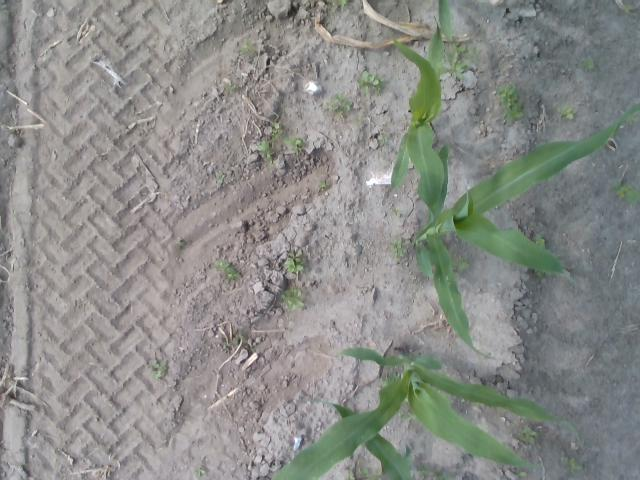Maize: (411, 104, 640, 358), (271, 346, 581, 480), (386, 16, 444, 237), (312, 397, 413, 480), (438, 0, 458, 40)
Weeds: (358, 70, 384, 94), (326, 92, 352, 116), (444, 54, 466, 78), (282, 288, 304, 312), (505, 98, 525, 123), (258, 140, 276, 162), (520, 426, 536, 445), (566, 456, 582, 474), (240, 38, 256, 56), (393, 238, 408, 257), (152, 360, 168, 377), (287, 256, 303, 273), (454, 254, 470, 270), (499, 84, 515, 99), (284, 138, 304, 150), (627, 188, 639, 204), (378, 132, 391, 146), (216, 260, 230, 273), (272, 122, 282, 140), (449, 42, 466, 52), (584, 58, 596, 72), (562, 106, 576, 118), (227, 267, 240, 279), (616, 184, 626, 198), (434, 470, 446, 480), (468, 48, 478, 60), (330, 0, 350, 6), (402, 410, 413, 420), (535, 234, 546, 244), (224, 83, 235, 93), (217, 172, 226, 184), (176, 237, 185, 249), (353, 113, 362, 125), (623, 4, 634, 13), (372, 469, 381, 479), (417, 464, 426, 474), (392, 207, 402, 216), (222, 342, 230, 352), (233, 334, 243, 342), (196, 468, 206, 476), (320, 180, 330, 188), (516, 471, 526, 478), (348, 472, 355, 480), (363, 468, 370, 474)
